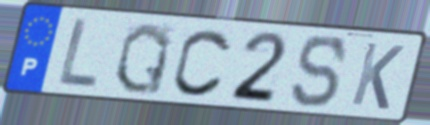2: (230, 30, 291, 106)
C: (170, 26, 236, 100)
K: (348, 39, 407, 113)
L: (55, 15, 101, 92)
Q: (111, 20, 174, 97)
S: (289, 33, 351, 110)
